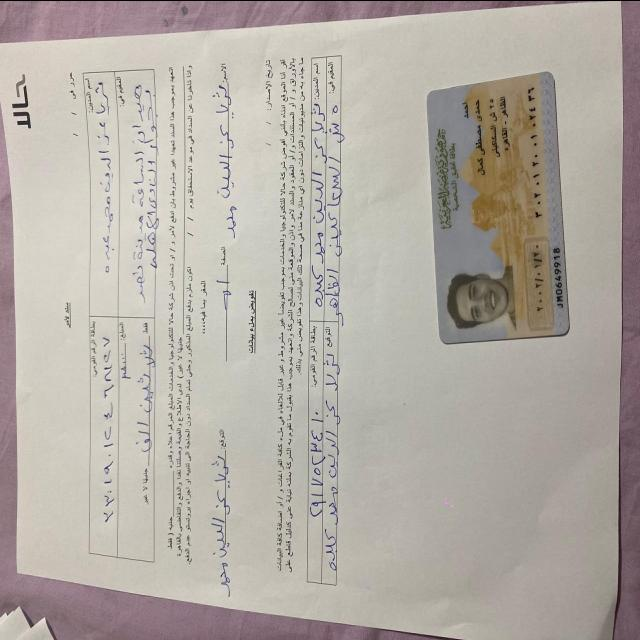id_card: (422, 64, 573, 345)
